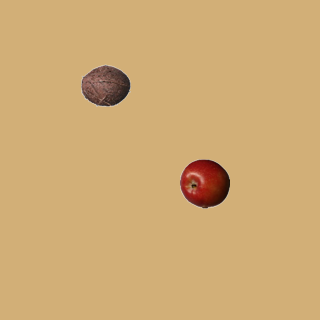Apple Braeburn: (179, 158, 229, 208)
Cocos: (80, 60, 130, 110)
